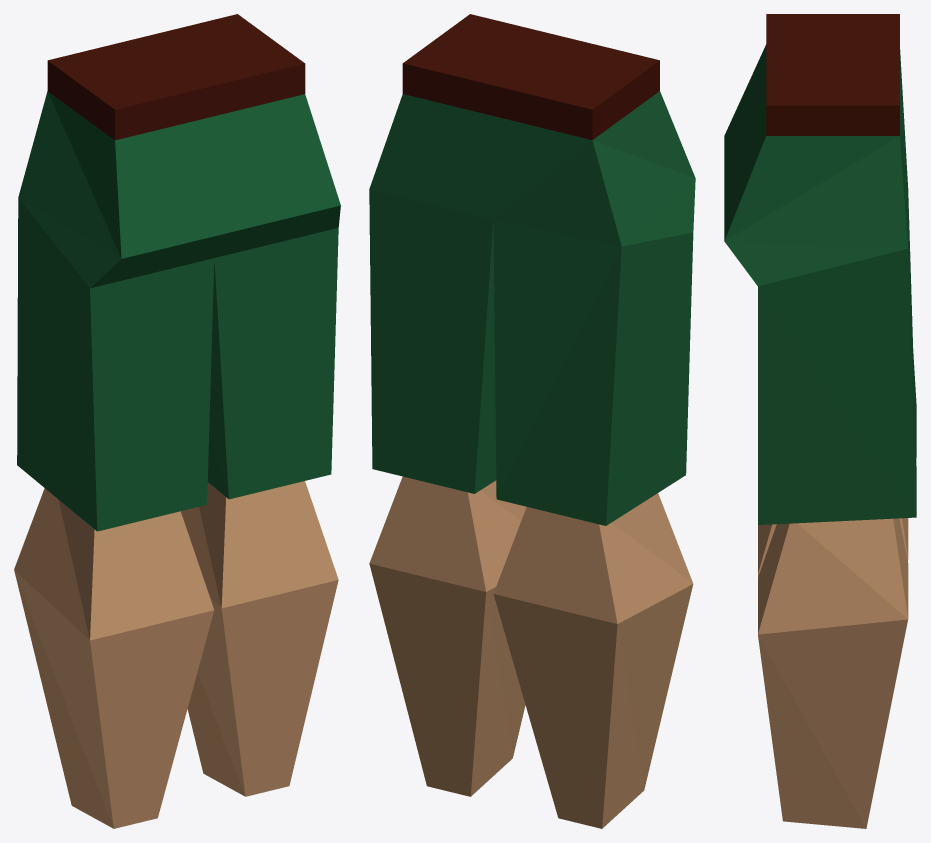
The model's file is player_male_legs_37_0.obj.
3 renders of one model, left to right at view 1: azimuth 30°, elevation 25°; view 2: azimuth 150°, elevation 25°; view 3: azimuth 270°, elevation 25°, orthographic.
Bounding box in the file's own units: 0.2656 × 0.75 × 0.1797.
